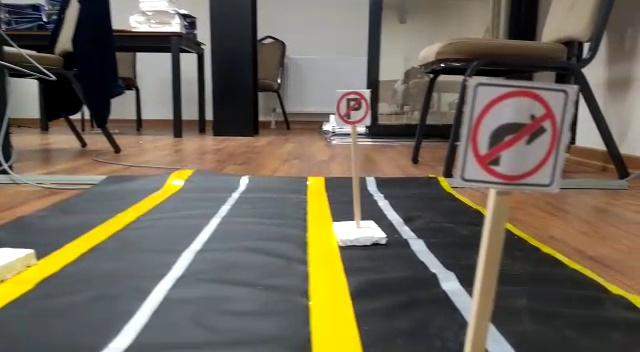park_yapilmaz: (335, 88, 371, 124)
saga_donulmez: (468, 76, 556, 188)
